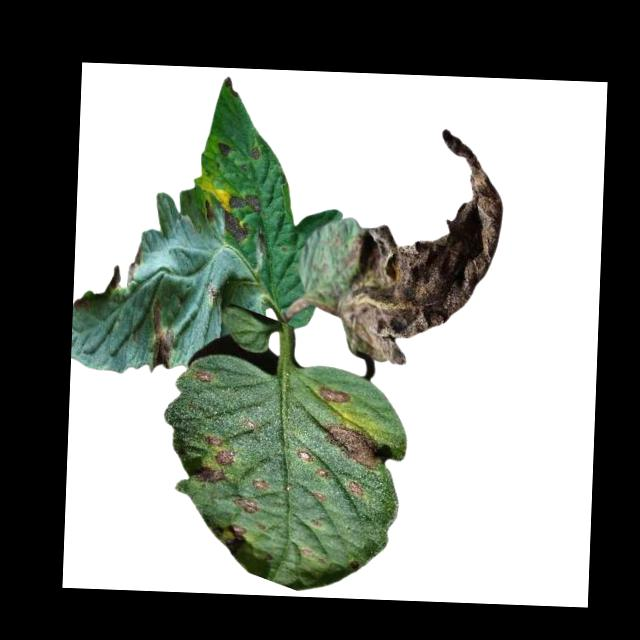Early_blight: (329, 121, 510, 365), (326, 423, 386, 465), (147, 299, 180, 370), (194, 430, 235, 482), (123, 239, 144, 290), (219, 211, 247, 245), (227, 192, 266, 213), (317, 384, 352, 403), (235, 494, 263, 514), (251, 475, 272, 492), (230, 523, 248, 542), (296, 447, 314, 463), (194, 370, 212, 385), (248, 145, 264, 161), (217, 139, 232, 156), (350, 481, 366, 496), (315, 468, 330, 478), (317, 489, 328, 499)
